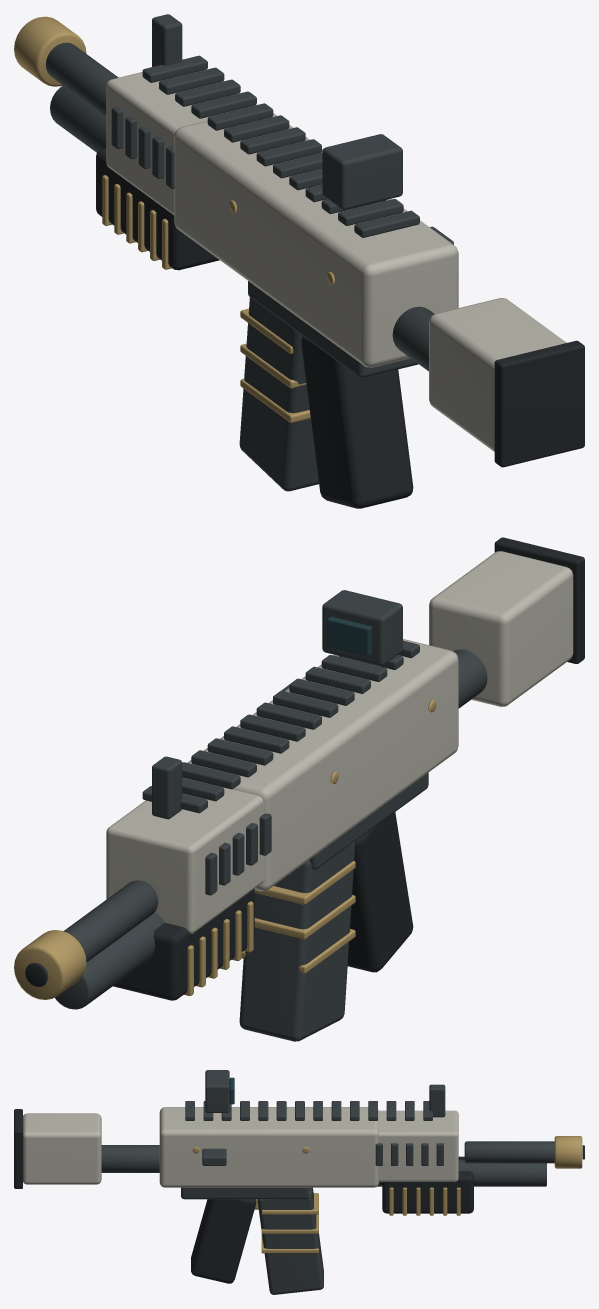
Rendered from Weapon_shotgun.glb.
The picture shows the model from 3 angles, top to bottom: view 1: azimuth 30°, elevation 25°; view 2: azimuth 150°, elevation 25°; view 3: azimuth 270°, elevation 25°; orthographic projection. The views are drawn at different scales.
Visible parts, largest first — view 1: Weapon_shotgun, ReloadMagazine, Pump; view 2: Weapon_shotgun, ReloadMagazine, Pump; view 3: Weapon_shotgun, ReloadMagazine, Pump, ChargingHandle.
Boxes of the visible parts, x1=… form: Weapon_shotgun: x1=14, y1=14, x2=584, y2=508; ReloadMagazine: x1=239, y1=297, x2=318, y2=491; Pump: x1=96, y1=148, x2=219, y2=270; Weapon_shotgun: x1=14, y1=537, x2=584, y2=1009; ReloadMagazine: x1=239, y1=841, x2=355, y2=1041; Pump: x1=113, y1=889, x2=254, y2=1000; Weapon_shotgun: x1=14, y1=1070, x2=584, y2=1283; ReloadMagazine: x1=257, y1=1187, x2=323, y2=1294; Pump: x1=382, y1=1156, x2=473, y2=1215; ChargingHandle: x1=202, y1=1148, x2=226, y2=1165.
Size of the model in its own units: 0.1395 by 0.3799 by 0.9355.
